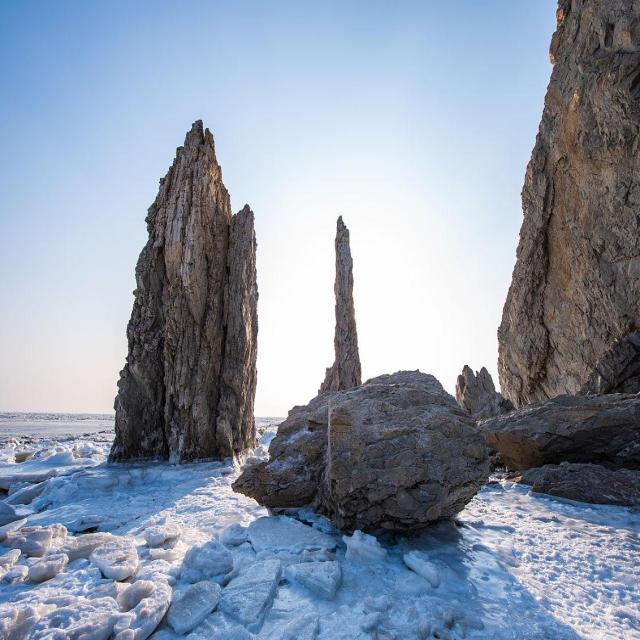reef: (83, 125, 260, 482), (269, 241, 477, 515), (485, 292, 640, 511)
